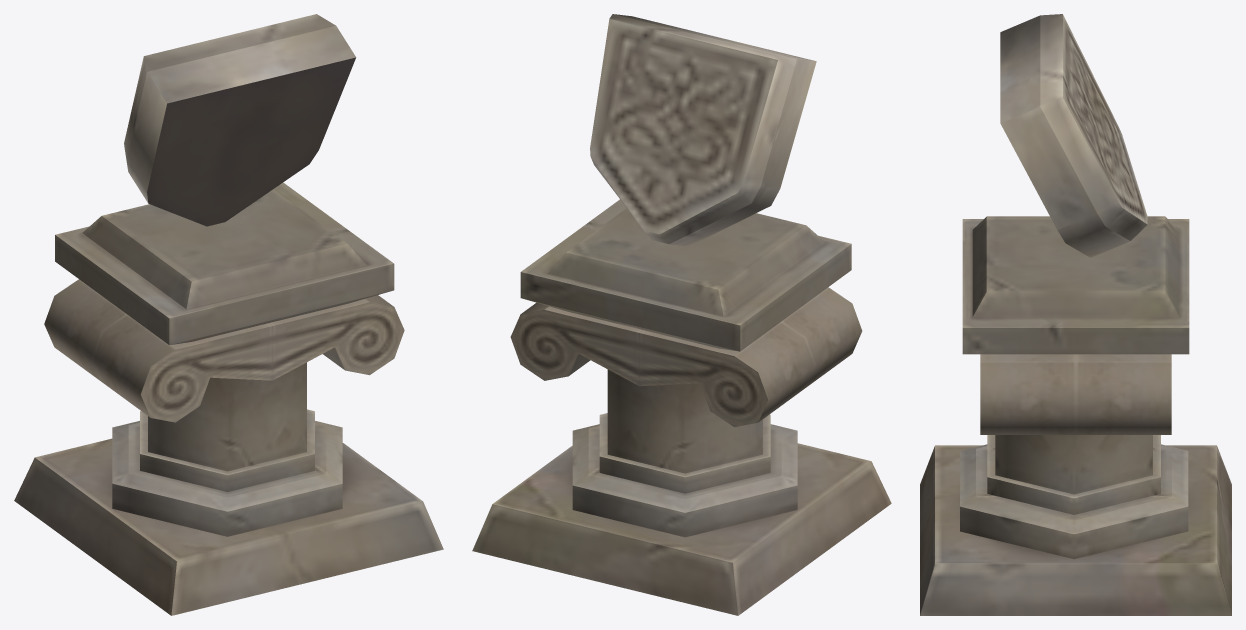
Rendered from prop_list_18.FBX.
3 views of the same model, side by side, from view 1: azimuth 30°, elevation 25°; view 2: azimuth 150°, elevation 25°; view 3: azimuth 270°, elevation 25° (orthographic). The views are drawn at different scales.
Visible parts, largest first — view 1: prop_list_18; view 2: prop_list_18; view 3: prop_list_18.
Part boxes in pixels (bbox=[...]): prop_list_18: bbox=[14, 14, 443, 615]; prop_list_18: bbox=[472, 14, 891, 615]; prop_list_18: bbox=[920, 14, 1231, 615].
Bounding box in the file's own units: 27.56 × 47.9 × 27.52.
